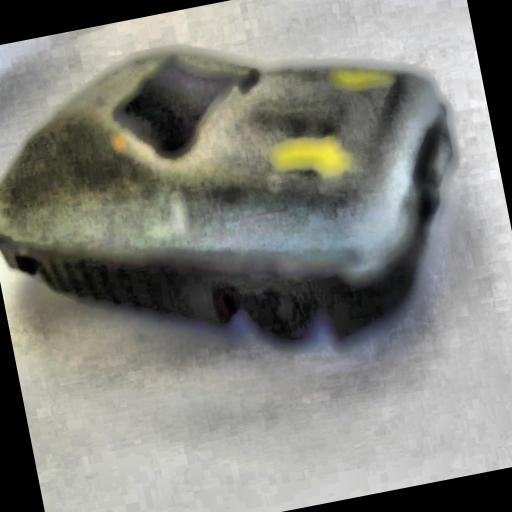normal_car: (0, 0, 502, 415)
